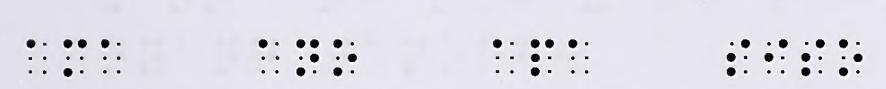letter_a: (25, 38, 49, 77), (258, 39, 282, 76), (100, 37, 122, 76), (492, 39, 515, 76), (567, 38, 590, 75)
letter_i: (764, 38, 788, 77)
letter_m: (62, 39, 87, 77)
letter_n: (297, 37, 320, 77)
letter_o: (332, 38, 358, 77), (839, 37, 863, 77)
letter_p: (529, 39, 555, 78)
letter_s: (726, 37, 751, 77), (801, 37, 824, 77)
